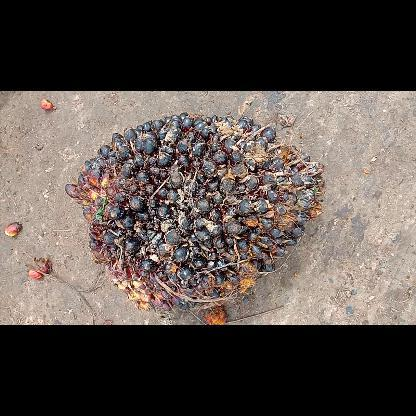TBS mentah: (61, 110, 325, 312)
